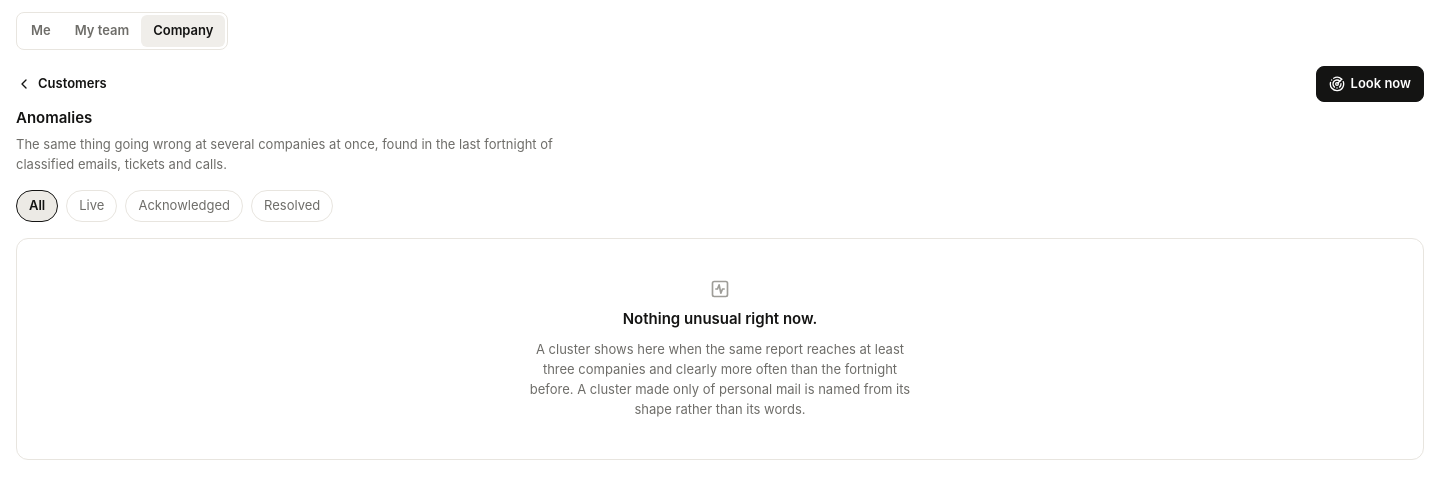
Test case: AnomaliesPage › reports a stopped run as an error, keeping what it found
Expected: the text "Nothing unusual right now." is shown, [623,307,817,331]
Click the button "Look now".
click(1370, 84)  # box [1316,66,1424,102]
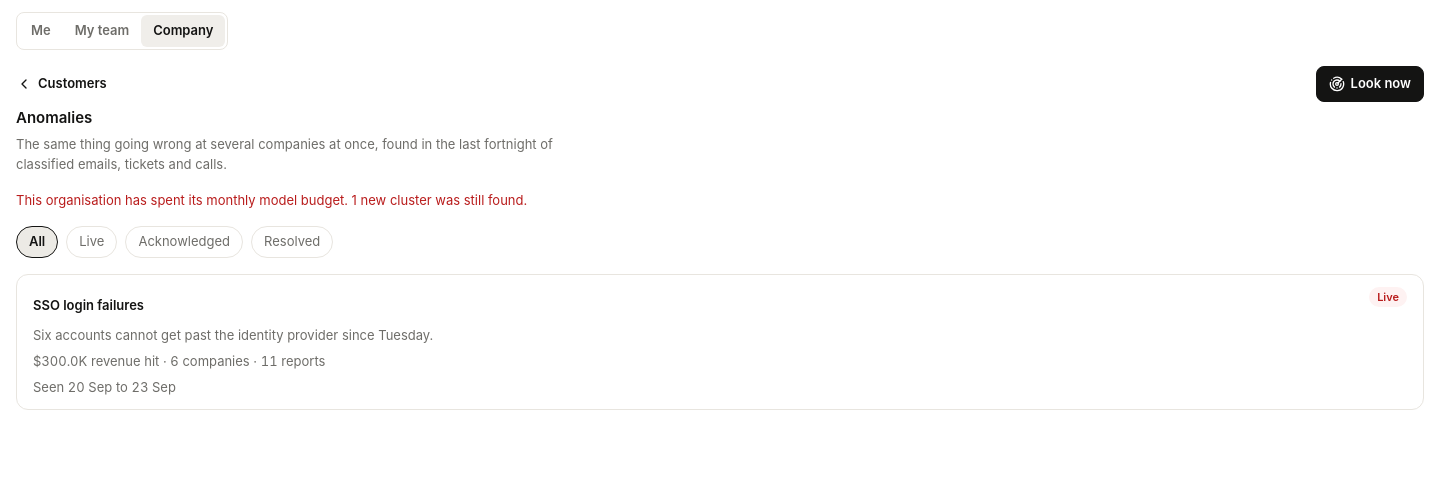
Result: the message shows "1 new cluster was still found" at [16,192,527,208]
